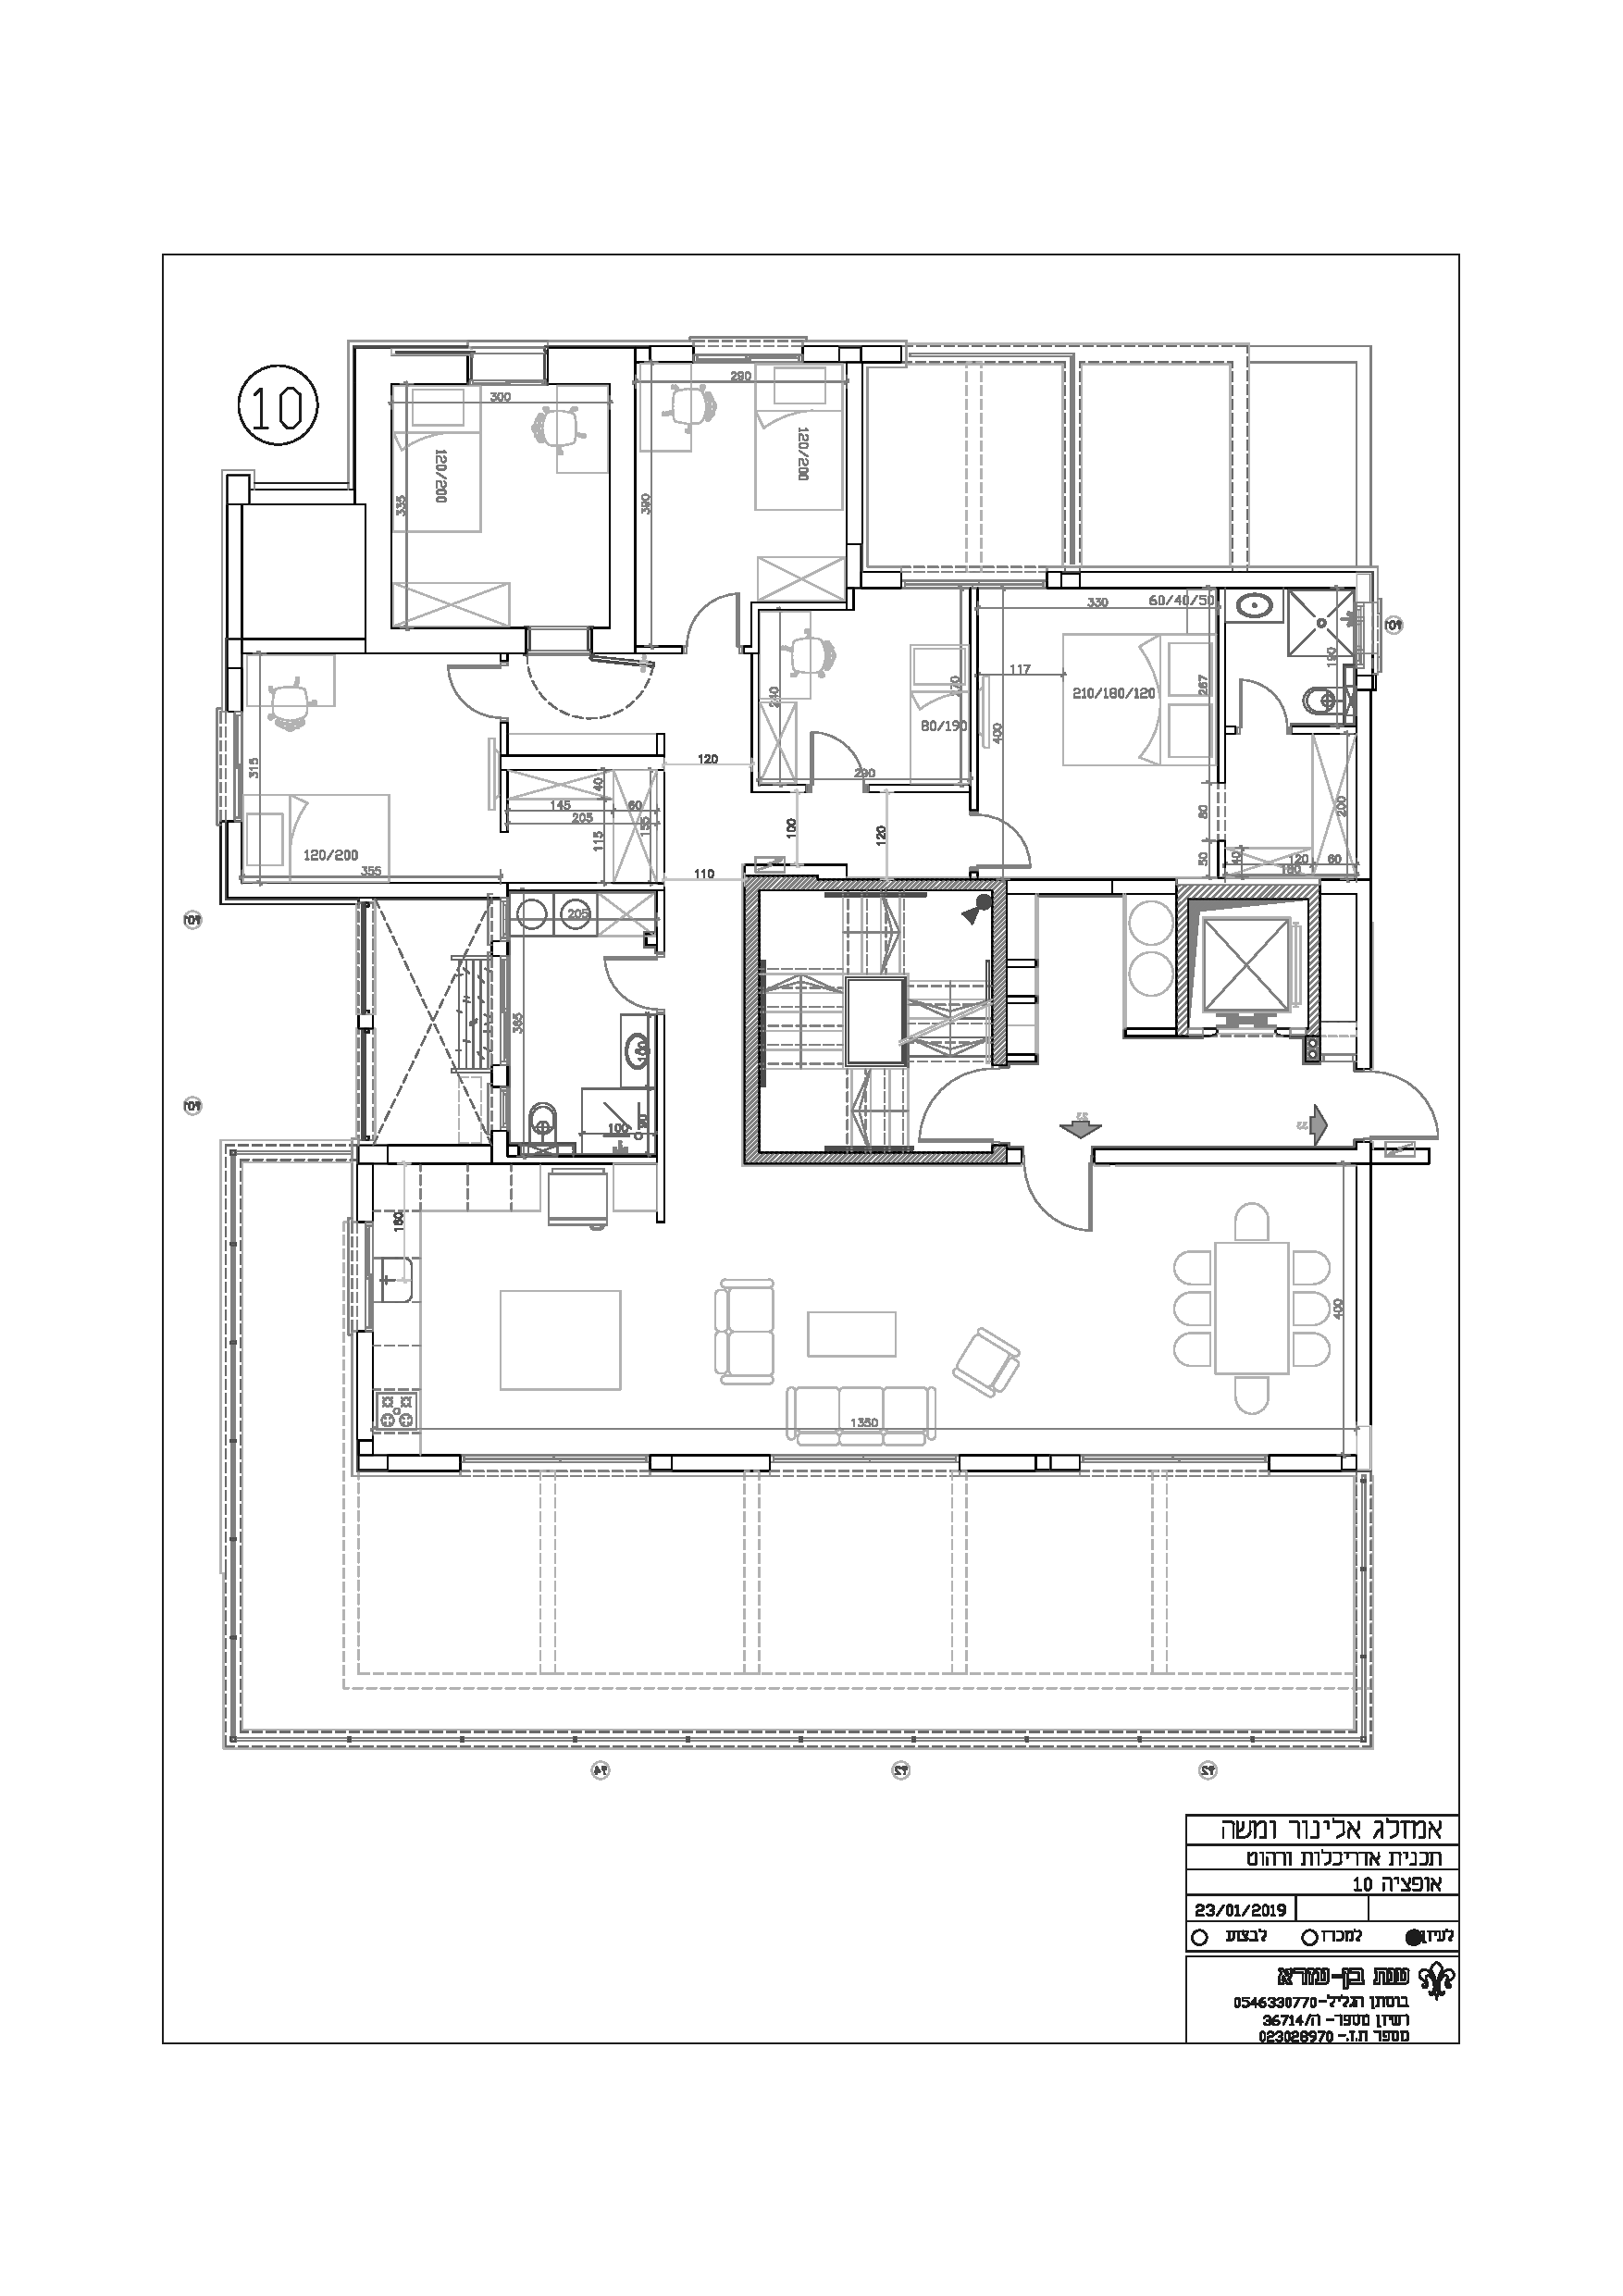door: (581, 940, 692, 1035), (905, 1061, 992, 1149), (1374, 1061, 1447, 1145), (1024, 1165, 1098, 1247), (804, 722, 871, 783), (674, 585, 747, 641), (436, 659, 495, 724), (1231, 669, 1293, 729), (982, 808, 1036, 873)
window: (458, 1453, 653, 1476), (768, 1453, 961, 1474), (1078, 1453, 1270, 1474), (343, 1219, 374, 1335), (901, 566, 1047, 590), (690, 336, 803, 364), (1354, 597, 1384, 678)
